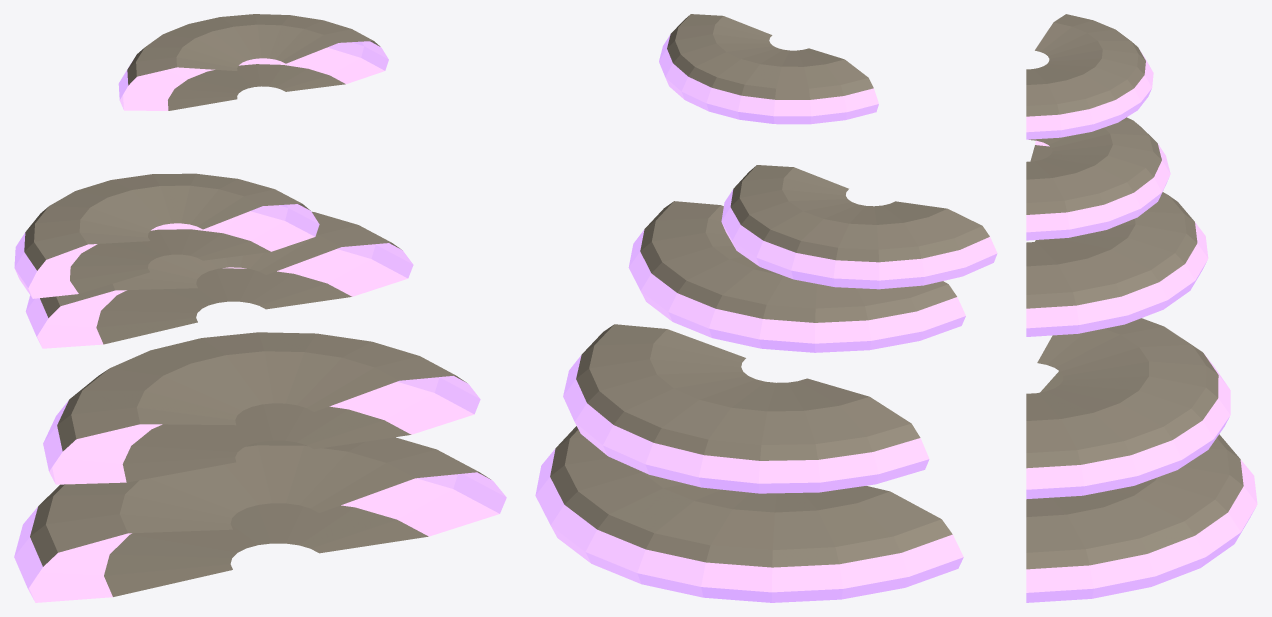
Rendered from shelf_v02.glb.
The picture shows the model from 3 angles, left to right: view 1: azimuth 30°, elevation 25°; view 2: azimuth 150°, elevation 25°; view 3: azimuth 270°, elevation 25°; orthographic projection. The views are drawn at different scales.
Parts seen in each view (by area): view 1: mushroom_shelf_flesh_nocol, mushroom_shelf_glow_nocol; view 2: mushroom_shelf_flesh_nocol, mushroom_shelf_glow_nocol; view 3: mushroom_shelf_flesh_nocol, mushroom_shelf_glow_nocol.
Boxes of the visible parts, x1,y1,x2,y2 form: mushroom_shelf_flesh_nocol: (24,14,490,596); mushroom_shelf_glow_nocol: (14,41,506,602); mushroom_shelf_flesh_nocol: (550,14,989,567); mushroom_shelf_glow_nocol: (535,34,997,602); mushroom_shelf_flesh_nocol: (1026,14,1243,569); mushroom_shelf_glow_nocol: (1026,49,1257,602).
Size of the model in its own units: 1.28 by 1.34 by 0.6181.
